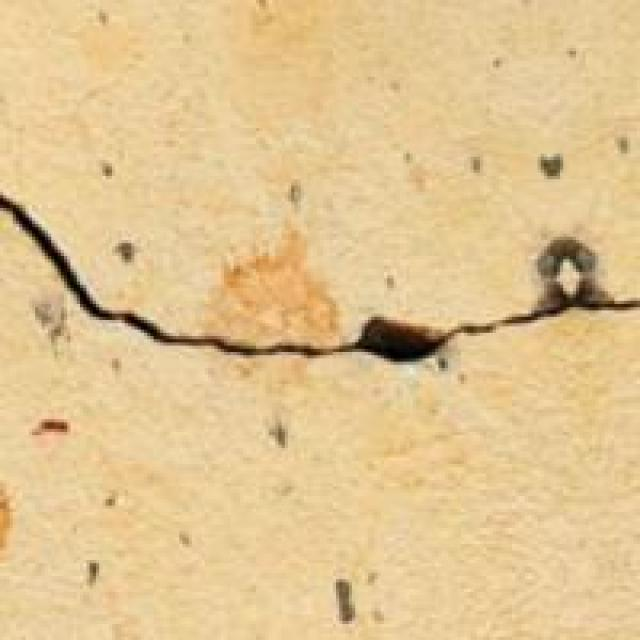crack: (0, 144, 637, 394)
